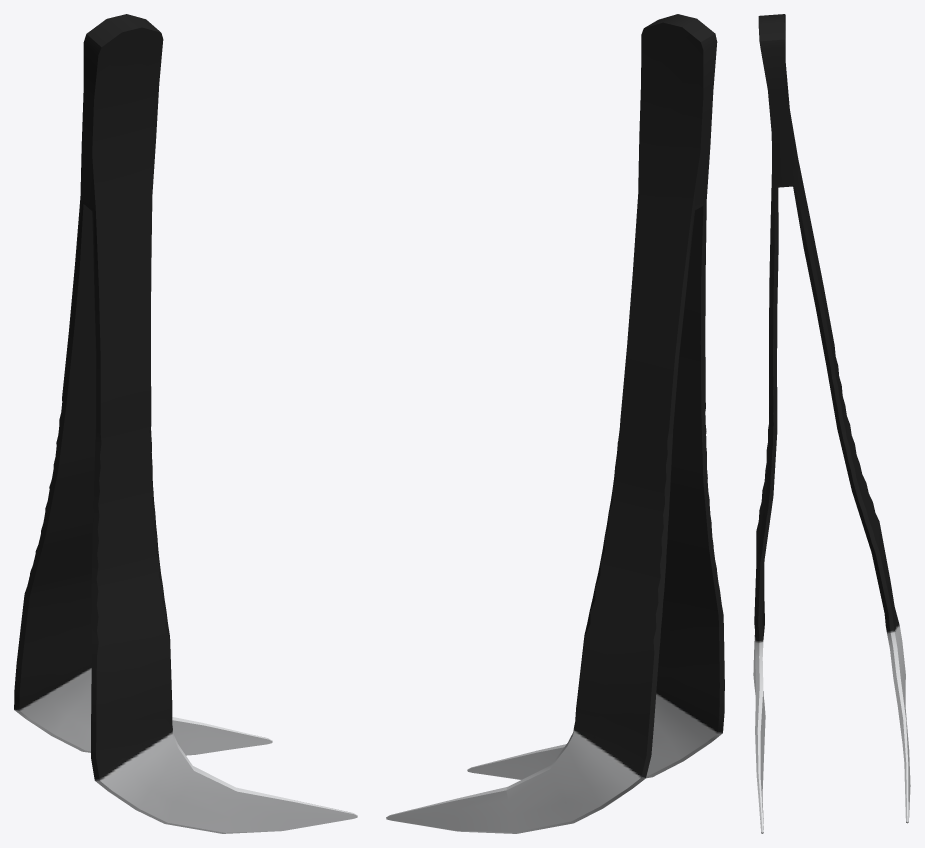
File: nhip_cong.glb
3 views of the same model, side by side, from view 1: azimuth 30°, elevation 25°; view 2: azimuth 150°, elevation 25°; view 3: azimuth 270°, elevation 25° (orthographic). The views are drawn at different scales.
Parts seen in each view (by area): view 1: nhip_cong; view 2: nhip_cong; view 3: nhip_cong.
Part boxes in pixels (<box>): nhip_cong: <box>14,14,357,833</box>; nhip_cong: <box>386,14,724,833</box>; nhip_cong: <box>753,14,910,833</box>.
Size of the model in its own units: 0.0265 by 0.0799 by 0.0158.
1 material, 1 textured.
